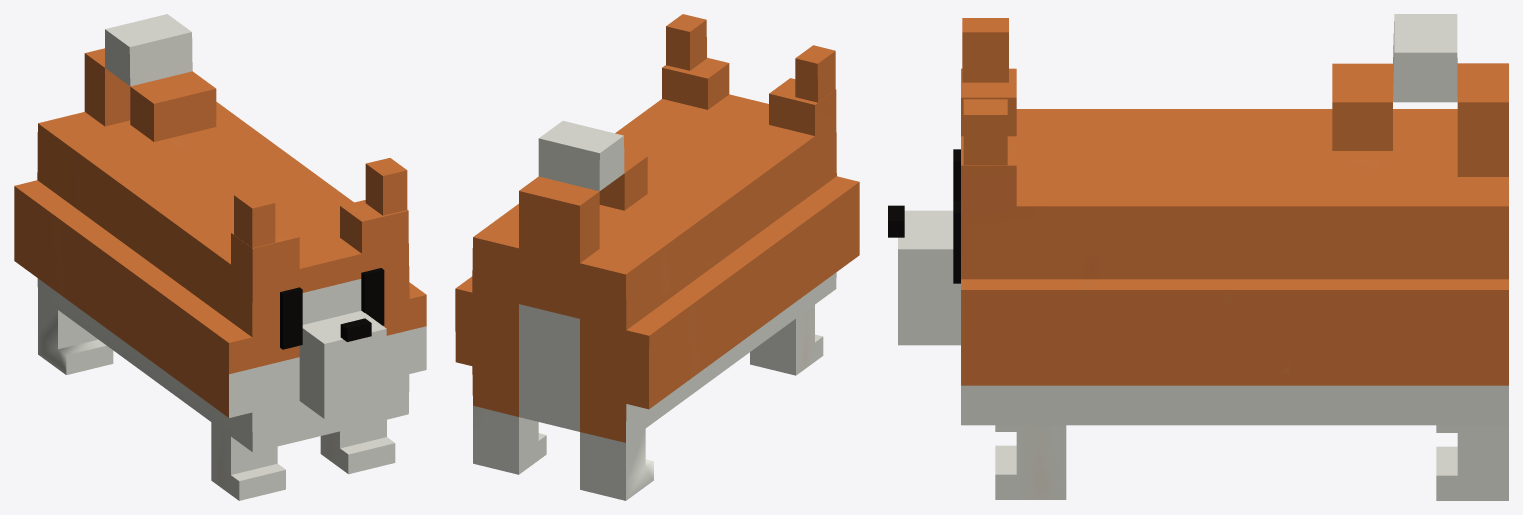
The model's file is corgi_correct.fbx.
The picture shows the model from 3 angles, left to right: view 1: azimuth 30°, elevation 25°; view 2: azimuth 150°, elevation 25°; view 3: azimuth 270°, elevation 25°; orthographic projection. The views are drawn at different scales.
Visible parts, largest first — view 1: Cube.001; view 2: Cube.001; view 3: Cube.001.
Part boxes in pixels (x1,y1,x2,y2): Cube.001: (14, 14, 426, 500); Cube.001: (455, 14, 859, 500); Cube.001: (888, 14, 1508, 500).
Size of the model in its own units: 86.01 by 137 by 183.
Materials: 1 (1 with a texture image).
